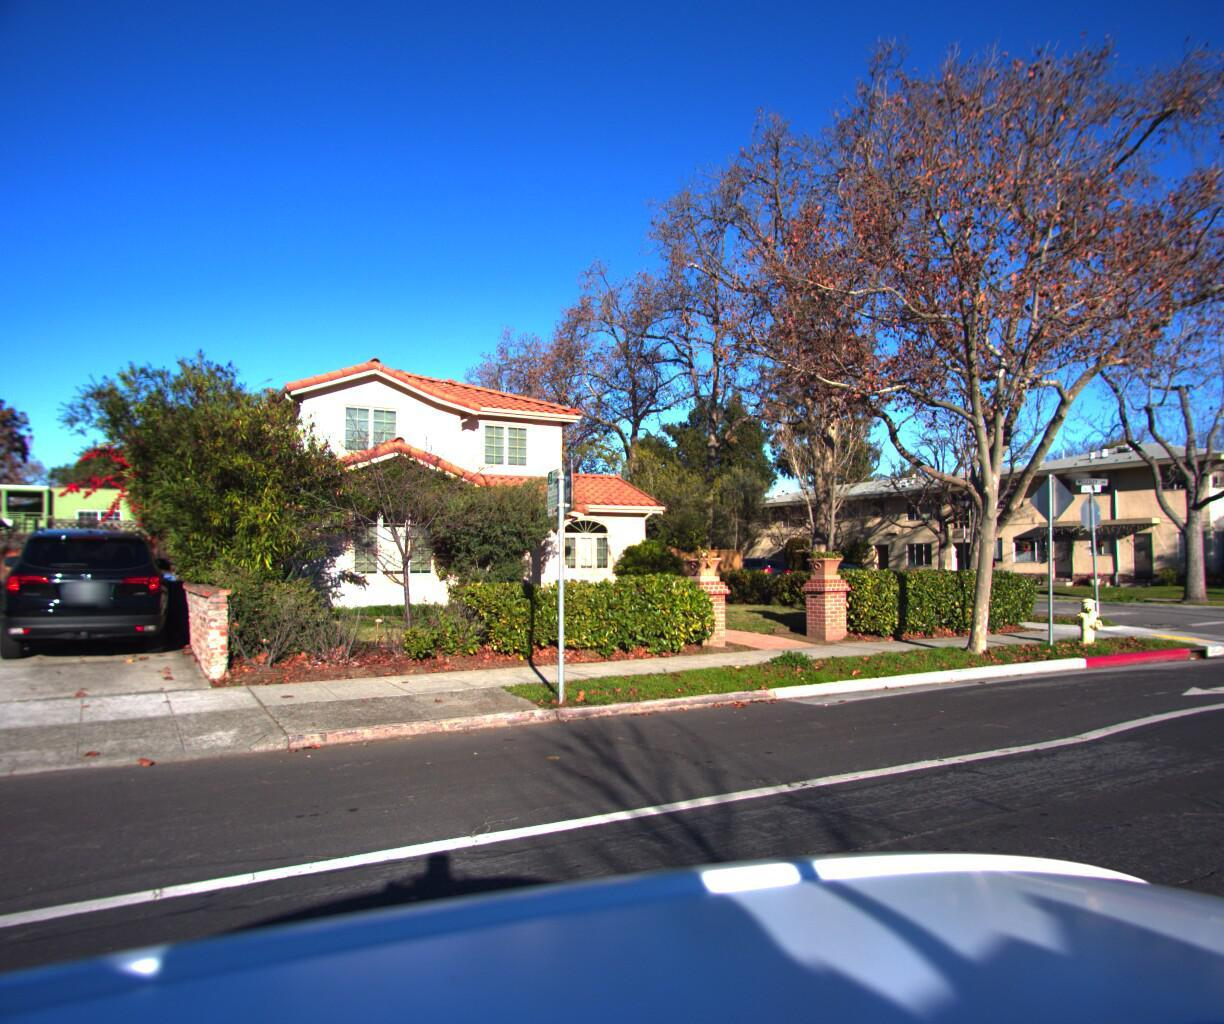car: (0, 516, 173, 673), (714, 557, 796, 593)
